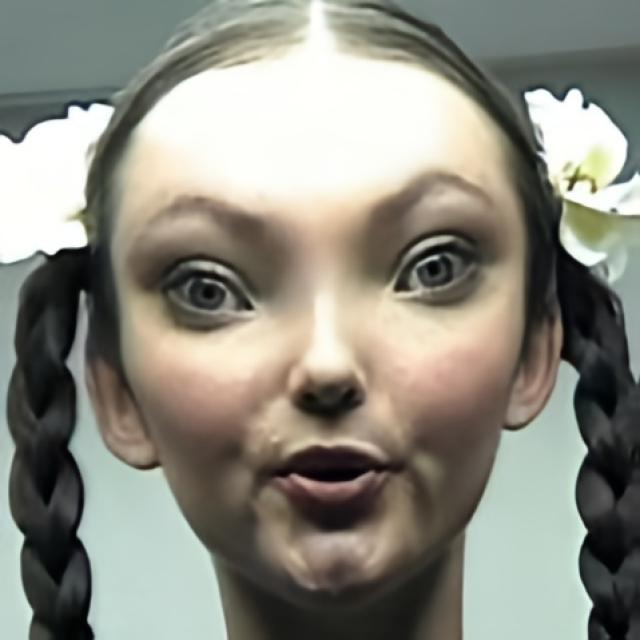surprise: (104, 40, 528, 622)
